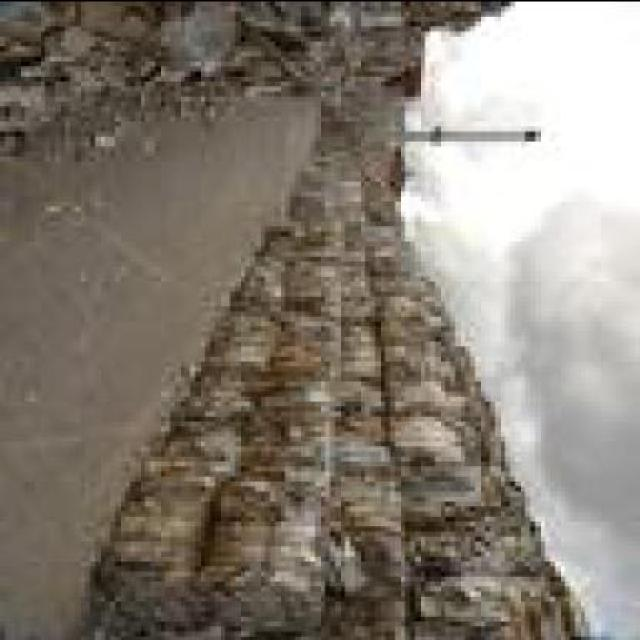CARDBOARD: (5, 5, 250, 124), (99, 470, 232, 638), (216, 480, 336, 631), (260, 536, 417, 638), (414, 564, 595, 638), (166, 30, 306, 110), (415, 504, 550, 576), (250, 5, 350, 100), (410, 459, 525, 510), (390, 415, 510, 460), (160, 414, 249, 474), (330, 80, 410, 140), (366, 30, 426, 105), (335, 474, 410, 534), (246, 431, 334, 480), (396, 370, 484, 415), (280, 320, 345, 380), (290, 186, 370, 234), (184, 375, 264, 420), (215, 315, 280, 370), (334, 431, 406, 480), (390, 340, 475, 380), (340, 380, 395, 440), (260, 384, 340, 424), (420, 4, 515, 36), (290, 265, 345, 320), (345, 330, 390, 385), (240, 266, 289, 314), (305, 155, 370, 190), (350, 4, 415, 36), (390, 309, 455, 340), (290, 235, 345, 270), (380, 290, 445, 310), (380, 270, 445, 290), (350, 300, 385, 331), (375, 250, 420, 270), (350, 254, 375, 286), (365, 230, 410, 245), (270, 240, 295, 265), (349, 280, 380, 300), (356, 245, 364, 260)
